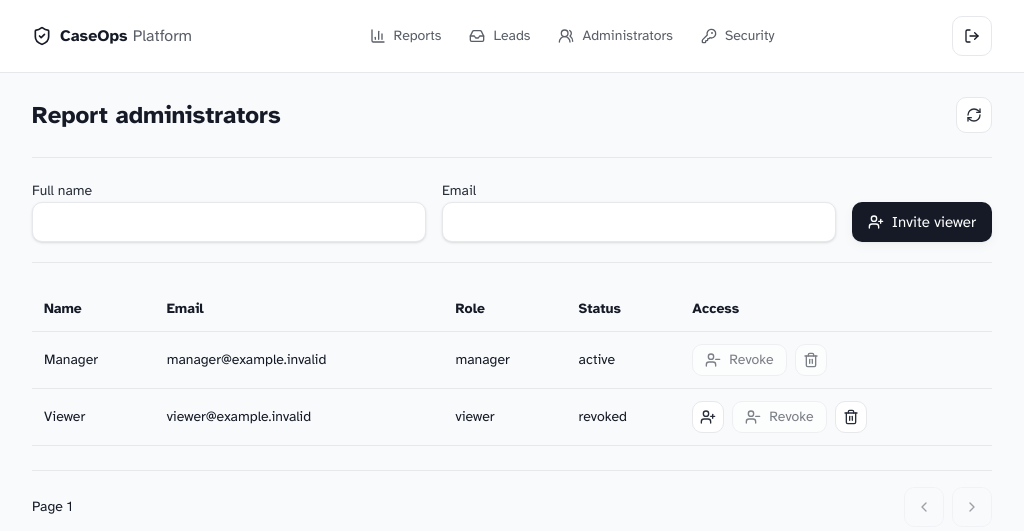
it: explicit report administrator management › allows a revoked viewer to populate a deliberate fresh invitation
Expected: the text "viewer@example.invalid" is shown, left=155, top=388, right=443, bottom=446
Click the button named "Invite Viewer again": (708, 417) left=692, top=401, right=724, bottom=433
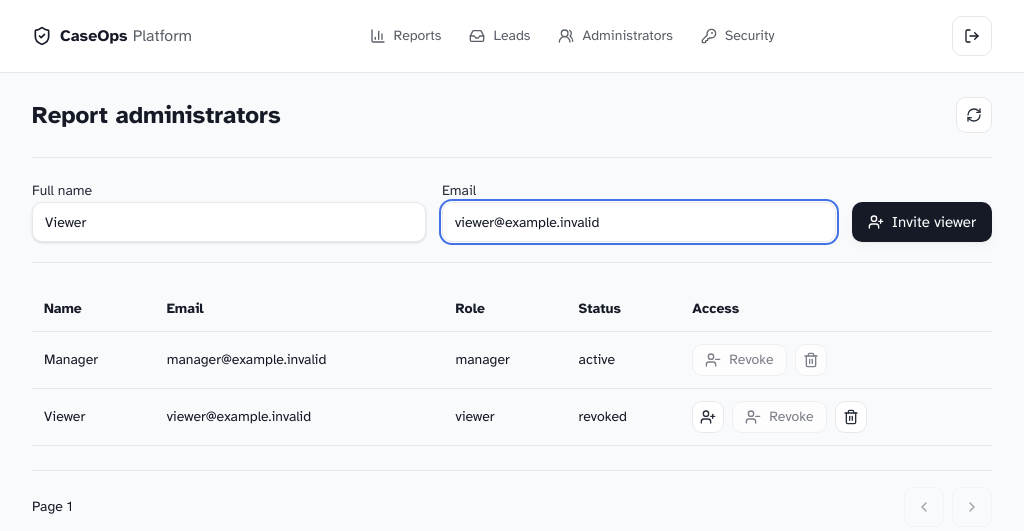
Expected: the field labelled "Full name" holds "Viewer", left=32, top=202, right=426, bottom=242
Expected: the field labelled "Email" holds "viewer@example.invalid", left=442, top=202, right=836, bottom=242
